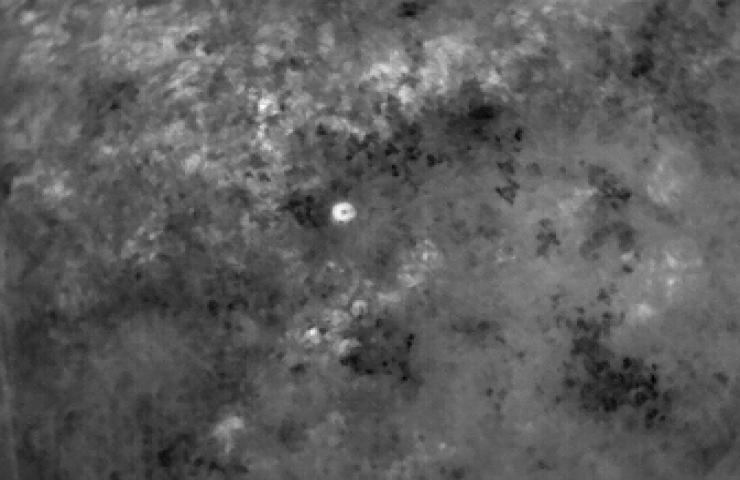landmines: (329, 200, 361, 228)
